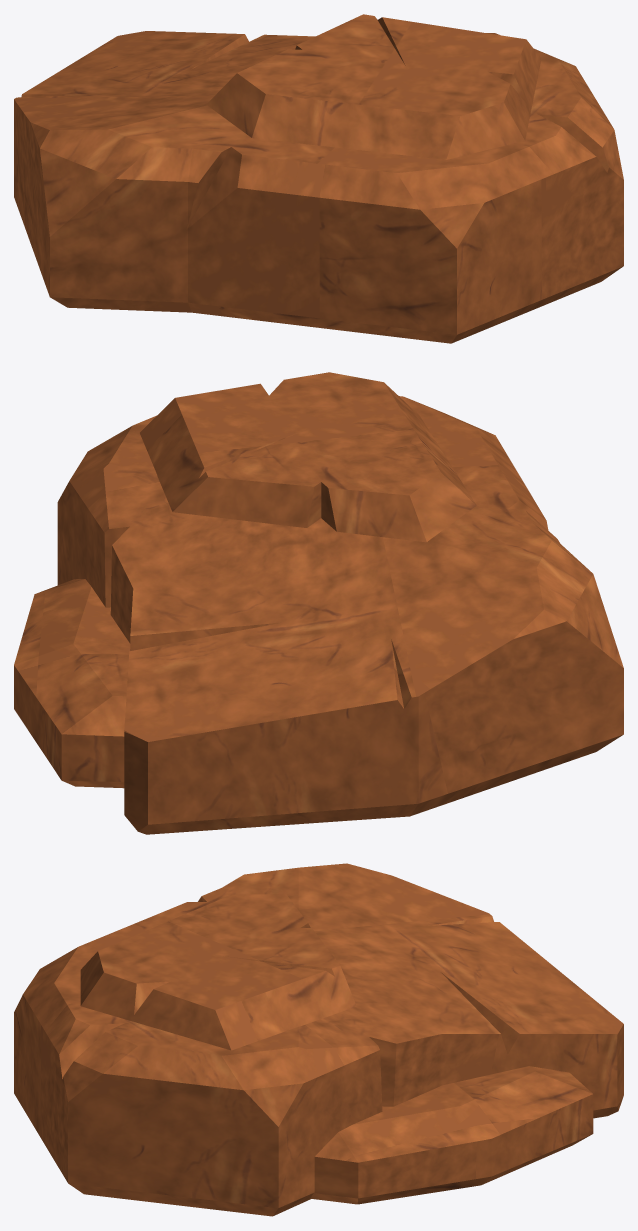
Rendered from rock2.fbx.
The picture shows the model from 3 angles, top to bottom: view 1: azimuth 30°, elevation 25°; view 2: azimuth 150°, elevation 25°; view 3: azimuth 270°, elevation 25°; orthographic projection. The views are drawn at different scales.
Parts seen in each view (by area): view 1: 2; view 2: 2; view 3: 2.
Part boxes in pixels (<box>): 2: <box>14,14,623,343</box>; 2: <box>14,372,623,834</box>; 2: <box>14,863,623,1216</box>.
Bounding box in the file's own units: 50.58 × 18.86 × 54.9.
Materials: 1 (1 with a texture image).
